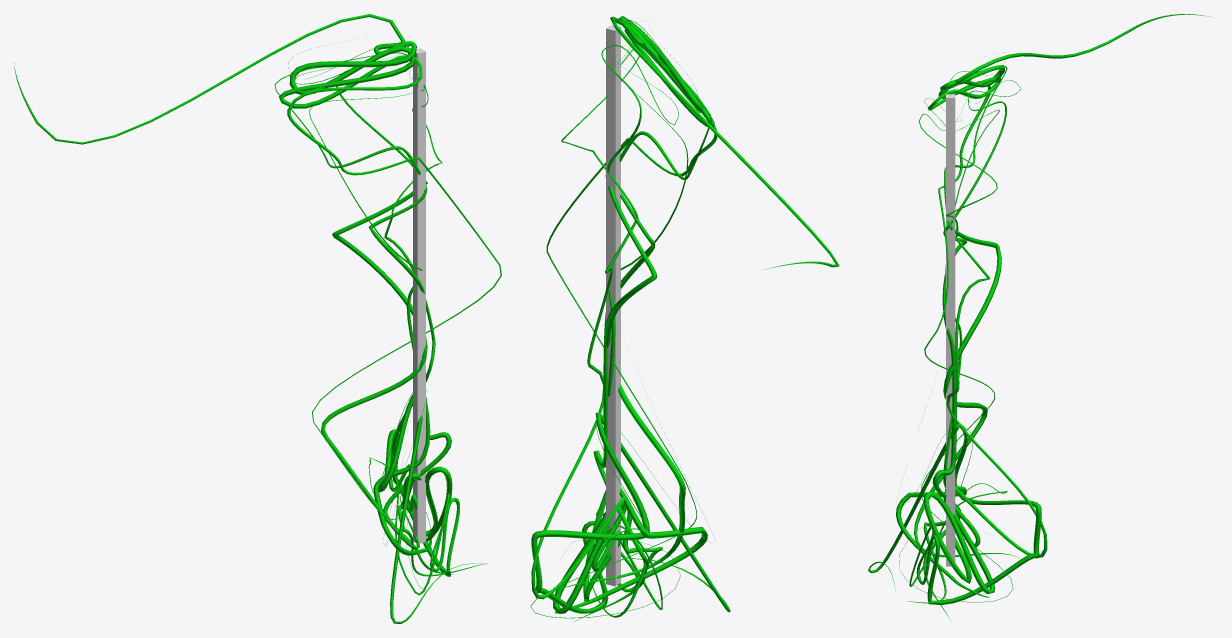
The model's file is hopplant.fbx.
3 renders of one model, left to right at view 1: azimuth 30°, elevation 25°; view 2: azimuth 150°, elevation 25°; view 3: azimuth 270°, elevation 25°, orthographic. The views are drawn at different scales.
Visible parts, largest first — view 1: BezierCurve, Cube; view 2: BezierCurve, Cube; view 3: BezierCurve, Cube.
Boxes of the visible parts, <box> form: BezierCurve: <box>14,14,501,623</box>; Cube: <box>413,48,425,543</box>; BezierCurve: <box>530,16,839,621</box>; Cube: <box>606,24,620,586</box>; BezierCurve: <box>868,14,1210,621</box>; Cube: <box>946,94,955,566</box>.
Size of the model in its own units: 475 by 714 by 420.
